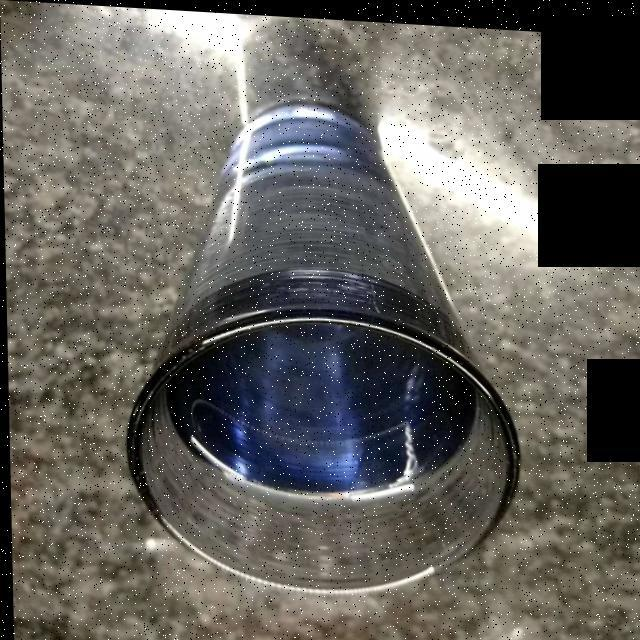water: (168, 106, 480, 489)
